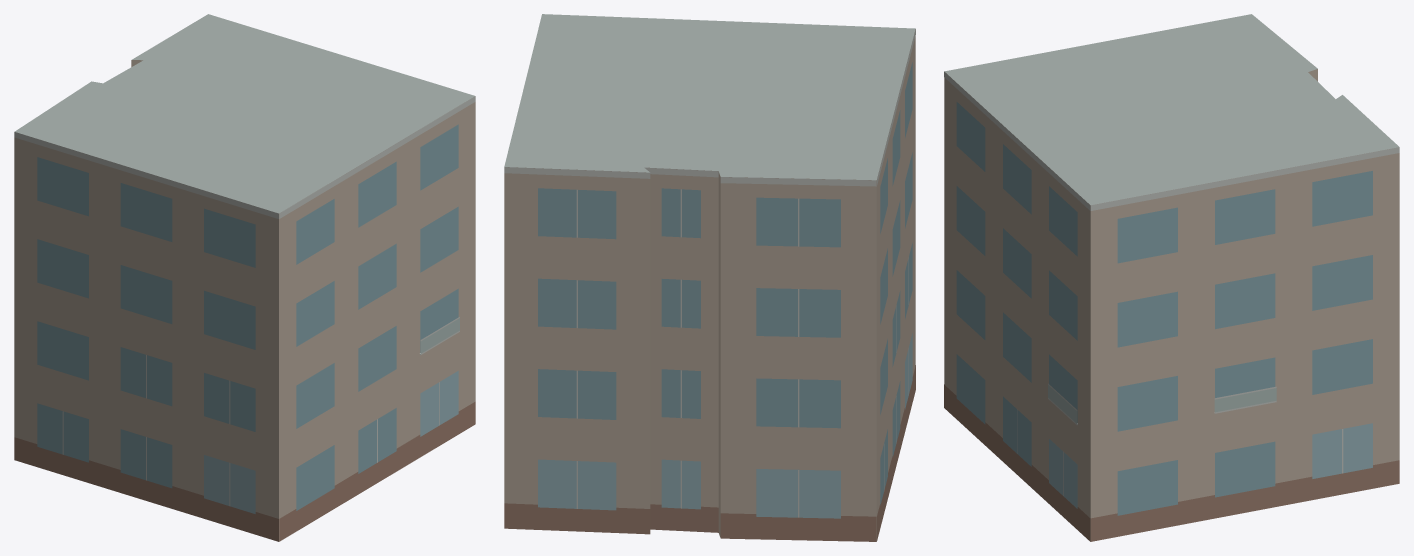
File: survey-upis-33016988.glb
The picture shows the model from 3 angles, left to right: view 1: azimuth 30°, elevation 25°; view 2: azimuth 150°, elevation 25°; view 3: azimuth 270°, elevation 25°; orthographic projection. The views are drawn at different scales.
Visible parts, largest first — view 1: survey-upis-33016988.tmp; view 2: survey-upis-33016988.tmp; view 3: survey-upis-33016988.tmp.
Part boxes in pixels (x1,y1,x2,y2): survey-upis-33016988.tmp: (14, 14, 475, 541); survey-upis-33016988.tmp: (504, 14, 915, 541); survey-upis-33016988.tmp: (944, 14, 1399, 541).
Size of the model in its own units: 17.14 by 14.05 by 17.24.
